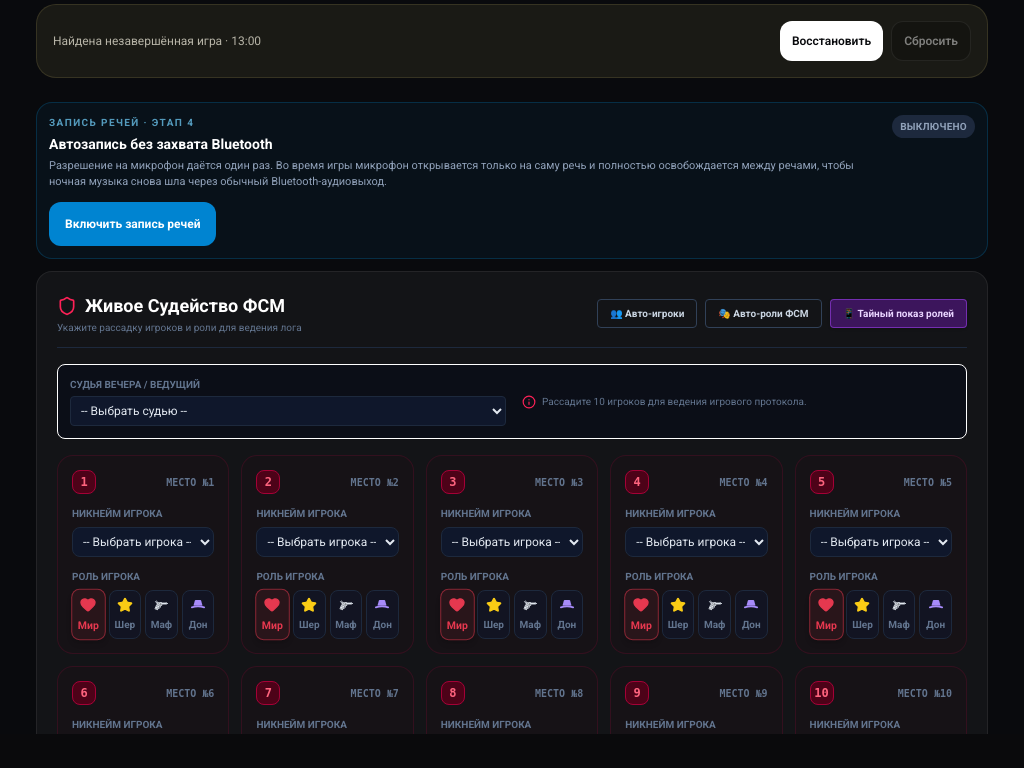
Test case: Live Game: colour protocol after the killed player's last speech › the next step after the last speech opens the protocol window
Click the button "Восстановить": (832, 41) x1=780 y1=21 x2=883 y2=61
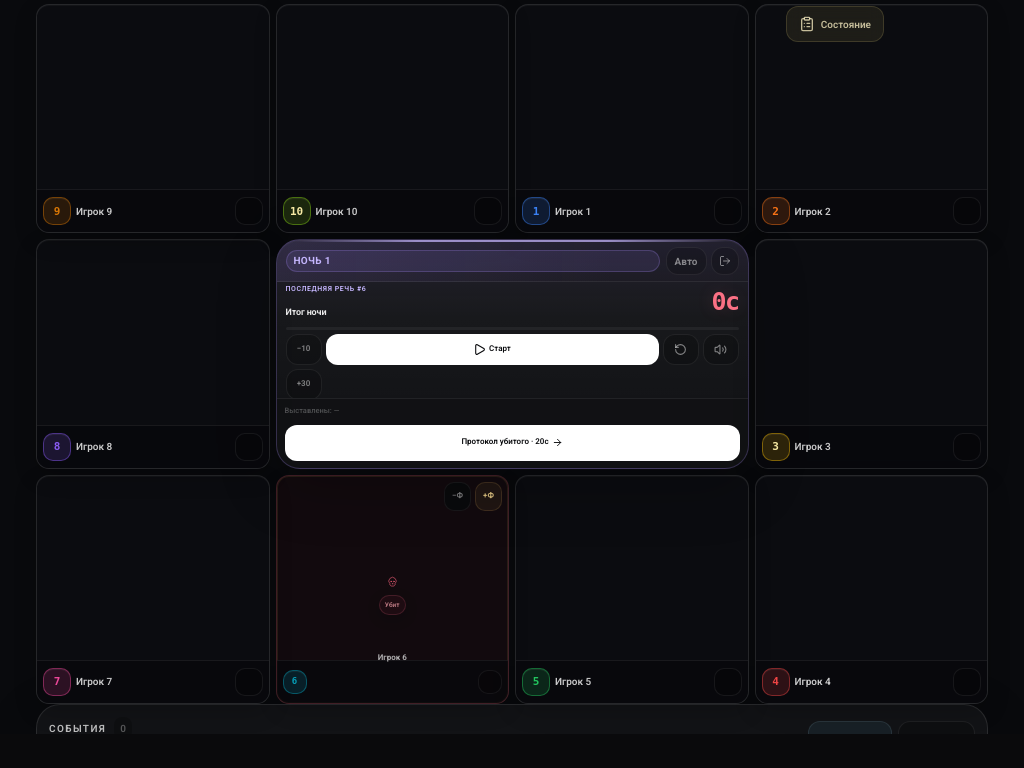
Click the button "Протокол убитого · 20с": (512, 443) x1=284 y1=425 x2=740 y2=461
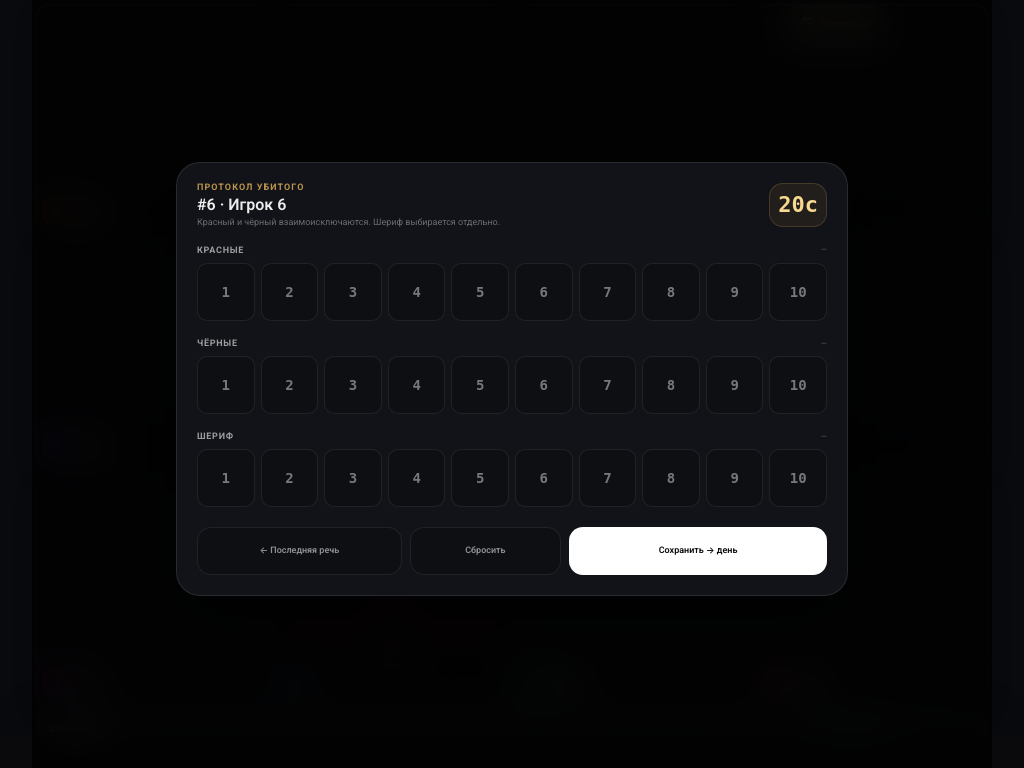
Result: the button "Сохранить → день" is shown at x1=569 y1=527 x2=827 y2=575
